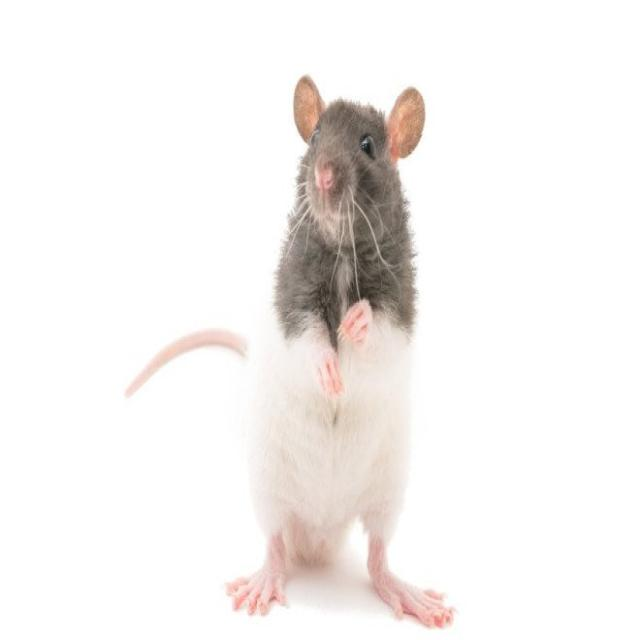rat: (125, 75, 453, 627)
